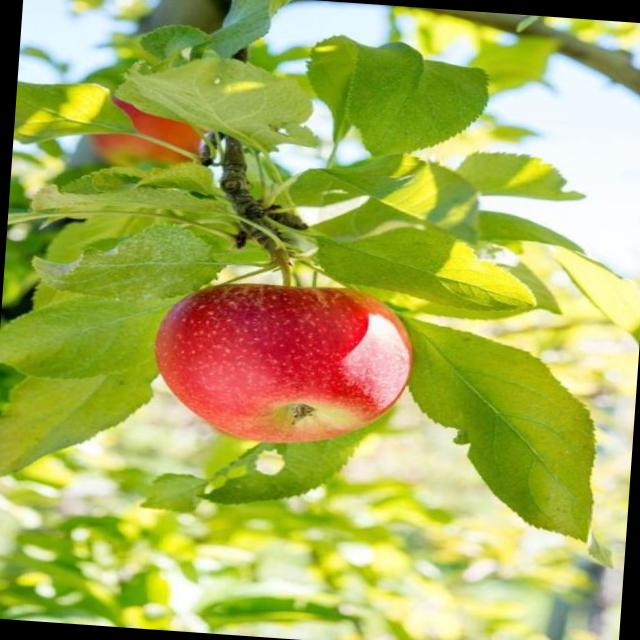Tao: (151, 272, 418, 451), (78, 83, 218, 163)
